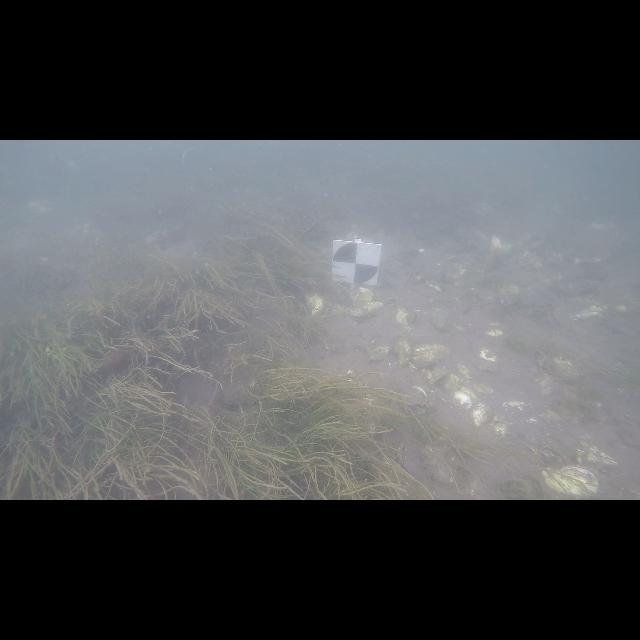Oyster-Closed: (541, 466, 599, 498), (411, 344, 449, 369), (351, 288, 382, 311), (472, 379, 500, 403), (476, 349, 499, 372), (394, 336, 411, 365), (305, 292, 324, 316), (421, 368, 448, 384), (471, 404, 488, 426), (454, 391, 472, 410), (368, 346, 390, 360), (445, 372, 461, 391), (395, 307, 409, 325)
Oyster-Open: (402, 384, 432, 413), (395, 440, 416, 478), (349, 301, 382, 321), (410, 310, 420, 324)
